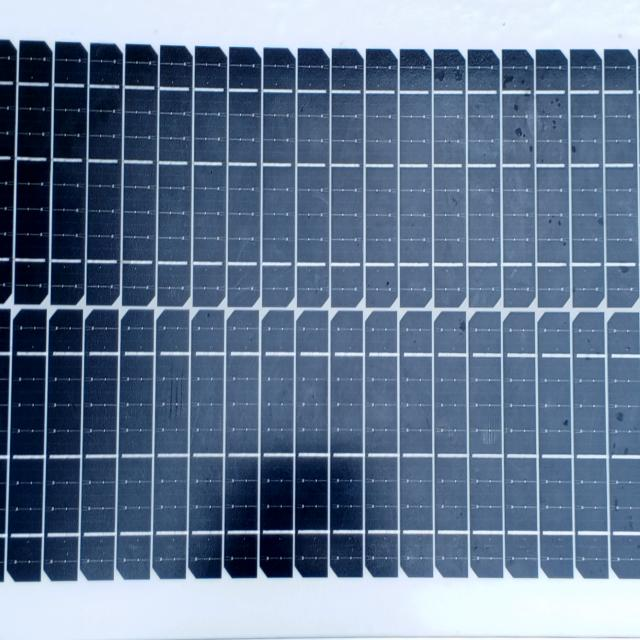Clean: (7, 18, 640, 609)
